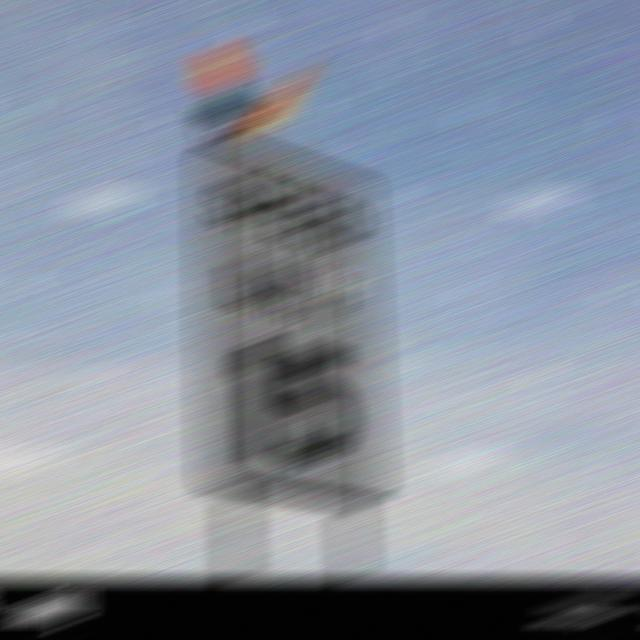speedLimit15: (196, 142, 385, 508)
